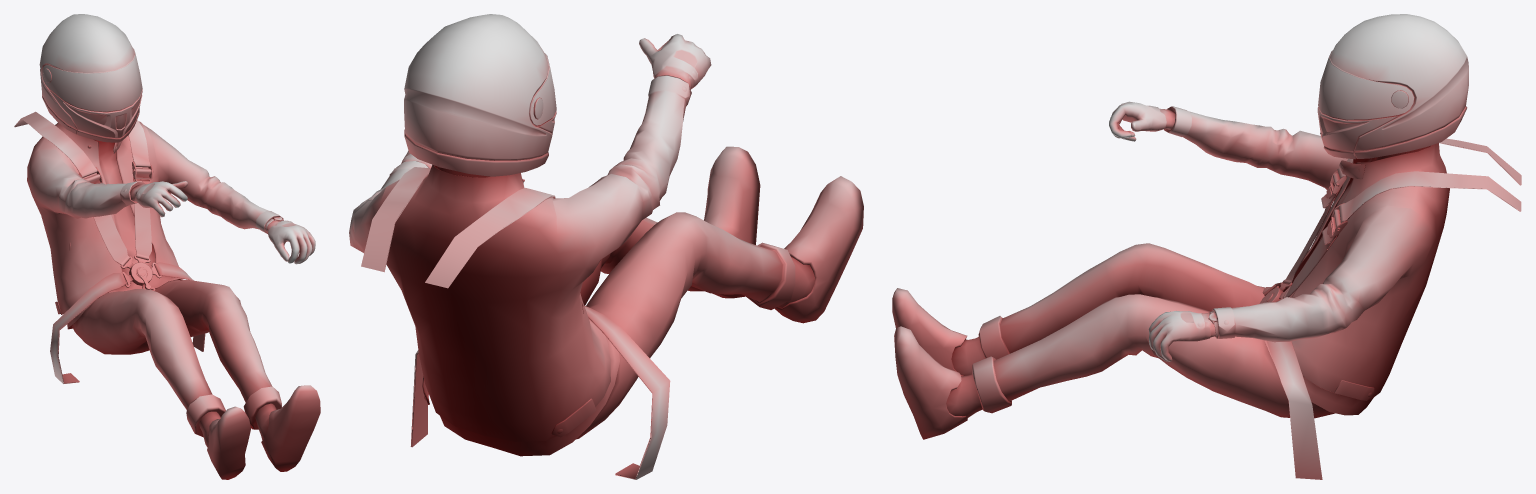
The model's file is Driver Left Seat.fbx.
The picture shows the model from 3 angles, left to right: view 1: azimuth 30°, elevation 25°; view 2: azimuth 150°, elevation 25°; view 3: azimuth 270°, elevation 25°; orthographic projection. The views are drawn at different scales.
Parts seen in each view (by area): view 1: DriverMaleGeneric_Geo; view 2: DriverMaleGeneric_Geo; view 3: DriverMaleGeneric_Geo.
Part boxes in pixels (bbox=[...]): DriverMaleGeneric_Geo: bbox=[14, 14, 320, 479]; DriverMaleGeneric_Geo: bbox=[349, 14, 863, 479]; DriverMaleGeneric_Geo: bbox=[892, 14, 1521, 479].
Size of the model in its own units: 0.6998 by 1.01 by 1.38.
